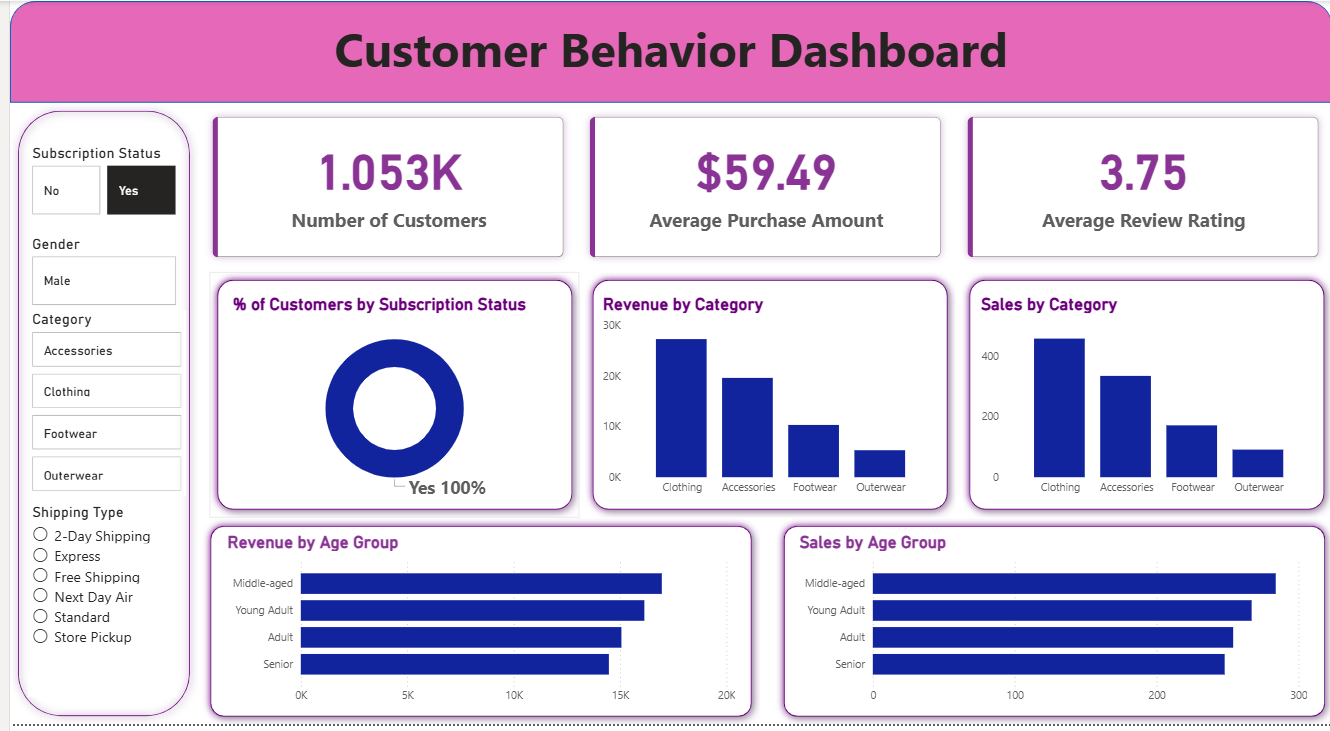

The page's visual inventory and layout, read from the dashboard file:
{"tool":"powerbi","page":{"name":"Page 1","canvas":[1500,820],"ordinal":0},"visuals":[{"type":"cardVisual","fields":{"Data":["public customer.Number of Customers","public customer.Average Purchase Amount","public customer.Average Review Rating"]},"box":[212.9,115.3,1286.5,191.6],"z":2000},{"type":"shape","box":[218.3,585.6,631.7,234.2],"z":2500,"group":"g1"},{"type":"shape","box":[0,0,1499.4,115.3],"z":3000},{"type":"textbox","box":[0,12.4,1499.4,102.9],"z":4000},{"type":"shape","box":[225.4,307,420.5,278.6],"z":5000},{"type":"donutChart","title":"% of Customers by Subscription Status","fields":{"Category":["public customer.subscription_status"],"Y":["CountNonNull(public customer.customer_id)"]},"box":[248.4,331.8,376.2,237.8],"z":6000},{"type":"shape","box":[1078.9,307,420.5,278.6],"z":7000},{"type":"shape","box":[652.1,307,420.5,278.6],"z":8000},{"type":"clusteredColumnChart","title":"Revenue by Category","fields":{"Y":["Sum(public customer.purchase_amount)"],"Category":["public customer.category"]},"box":[667.2,331.8,385.1,237.8],"z":9000},{"type":"clusteredColumnChart","title":"Sales by Category","fields":{"Y":["CountNonNull(public customer.customer_id)"],"Category":["public customer.category"]},"box":[1096.6,331.8,385.1,237.8],"z":10000},{"type":"shape","box":[0,115.3,212.9,704.5],"z":11000},{"type":"advancedSlicerVisual","fields":{"Values":["public customer.subscription_status"]},"box":[19.5,161.5,173.9,85.2],"z":12000},{"type":"advancedSlicerVisual","fields":{"Values":["public customer.gender"]},"box":[19.5,264.4,173.9,85.2],"z":13000},{"type":"advancedSlicerVisual","fields":{"Values":["public customer.category"]},"box":[20.3,350.8,179.3,210.5],"z":14000},{"type":"listSlicer","fields":{"Values":["public customer.shipping_type"]},"box":[19.5,569.6,168.6,220],"z":15000},{"type":"shape","box":[867.7,585.6,631.7,234.2],"z":16000},{"type":"clusteredBarChart","title":"Sales by Age Group","fields":{"Y":["CountNonNull(public customer.customer_id)"],"Category":["public customer.age_group"]},"box":[890.8,601.5,585.6,204.1],"z":17000},{"type":"clusteredBarChart","title":"Revenue by Age Group","fields":{"Y":["Sum(public customer.purchase_amount)"],"Category":["public customer.age_group"]},"box":[241.4,601.6,585.6,204.1],"z":17500,"group":"g1"},{"type":"group","id":"g1","title":"Group 1","box":[218.3,585.6,631.7,234.2],"z":17501}]}

Visuals, with their boxes in screenshot pixels (x1, y1, x2, y2), scaled from the page's 1500x820 canvas onto the 1330x731 screenshot:
cardVisual - public customer.Number of Customers x public customer.Average Purchase Amount: <bbox>189, 103, 1329, 274</bbox>
shape: <bbox>194, 522, 754, 730</bbox>
shape: <bbox>0, 0, 1329, 103</bbox>
textbox: <bbox>0, 11, 1329, 103</bbox>
shape: <bbox>200, 274, 573, 522</bbox>
"% of Customers by Subscription Status" donutChart: <bbox>220, 296, 554, 508</bbox>
shape: <bbox>957, 274, 1329, 522</bbox>
shape: <bbox>578, 274, 951, 522</bbox>
"Revenue by Category" clusteredColumnChart: <bbox>592, 296, 933, 508</bbox>
"Sales by Category" clusteredColumnChart: <bbox>972, 296, 1314, 508</bbox>
shape: <bbox>0, 103, 189, 730</bbox>
advancedSlicerVisual - public customer.subscription_status: <bbox>17, 144, 171, 220</bbox>
advancedSlicerVisual - public customer.gender: <bbox>17, 236, 171, 312</bbox>
advancedSlicerVisual - public customer.category: <bbox>18, 313, 177, 500</bbox>
listSlicer - public customer.shipping_type: <bbox>17, 508, 167, 704</bbox>
shape: <bbox>769, 522, 1329, 730</bbox>
"Sales by Age Group" clusteredBarChart: <bbox>790, 536, 1309, 718</bbox>
"Revenue by Age Group" clusteredBarChart: <bbox>214, 536, 733, 718</bbox>
"Group 1" group: <bbox>194, 522, 754, 730</bbox>
